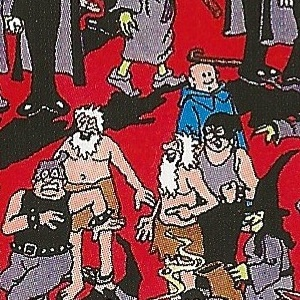Wizard Whitebeard: (144, 121, 157, 179)
